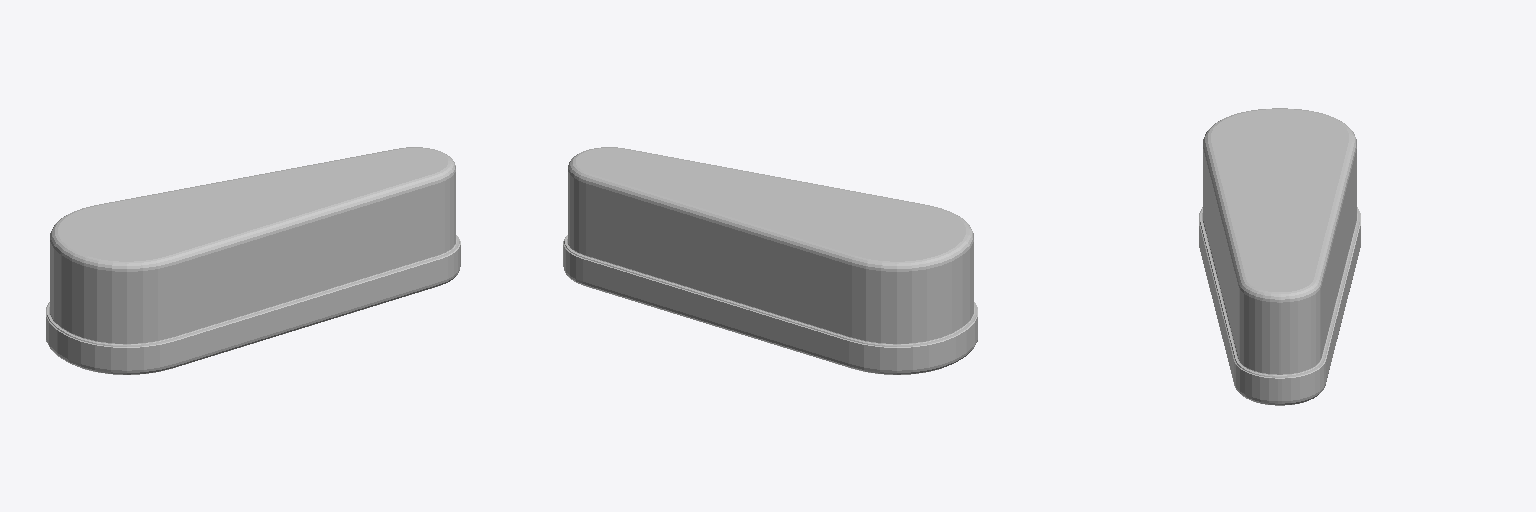
Rendered from Flipper.obj.
The picture shows the model from 3 angles: view 1: azimuth 30°, elevation 25°; view 2: azimuth 150°, elevation 25°; view 3: azimuth 270°, elevation 25°; orthographic projection.
Parts seen in each view (by area): view 1: Cube.000; view 2: Cube.000; view 3: Cube.000.
Part boxes in pixels (bbox=[...]): Cube.000: bbox=[46, 147, 460, 374]; Cube.000: bbox=[563, 147, 977, 374]; Cube.000: bbox=[1199, 108, 1360, 405].
Bounding box in the file's own units: 5.23 × 1.39 × 1.86.